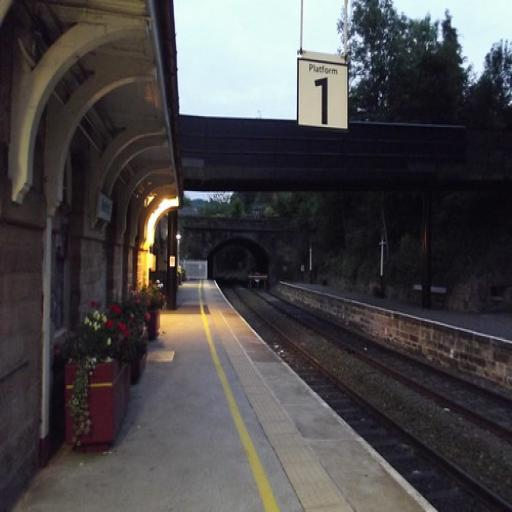platform_edge: (192, 299, 300, 443), (214, 445, 444, 512)
